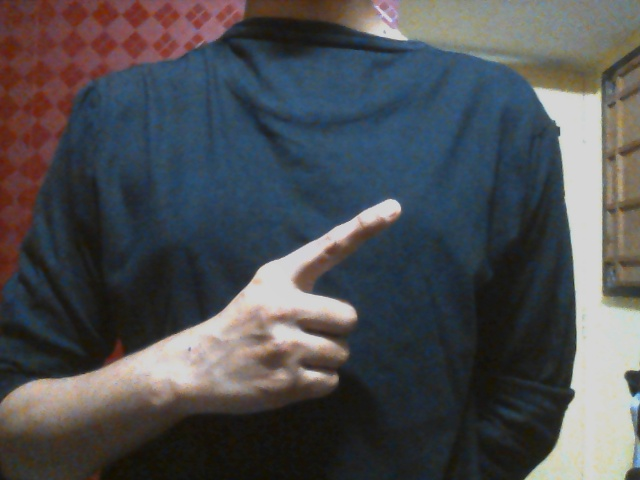I: (199, 196, 404, 419)
